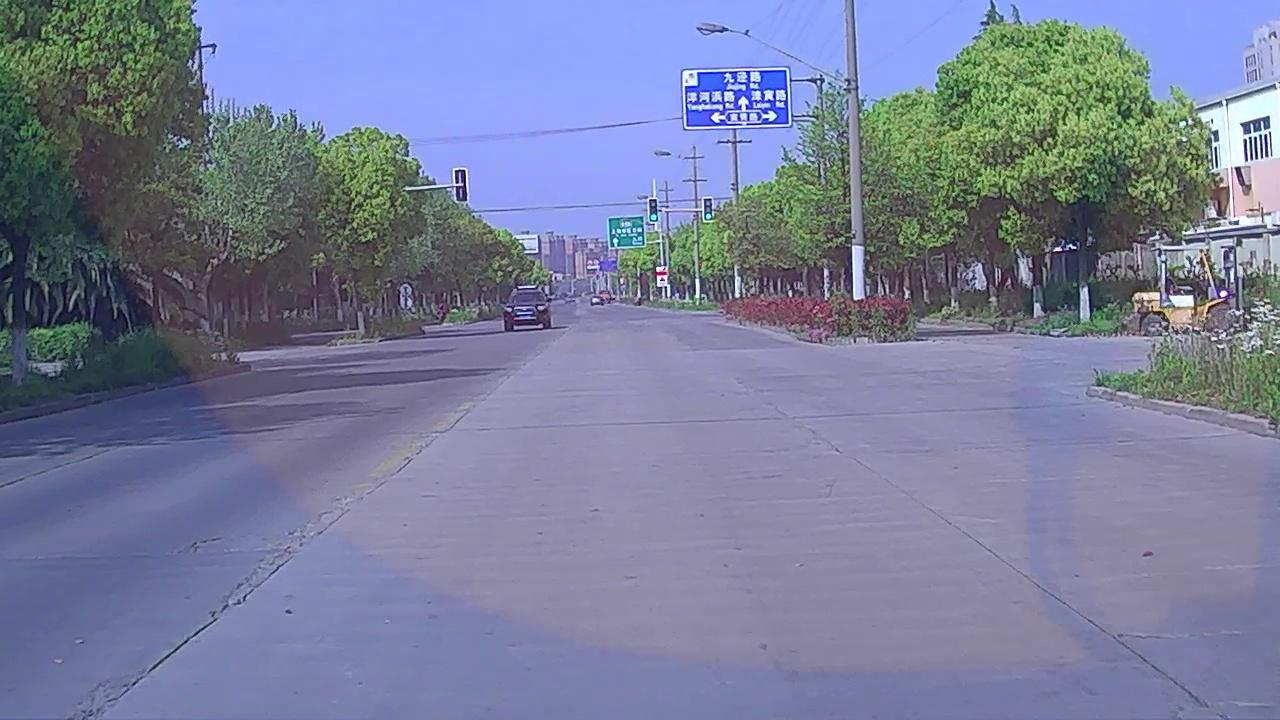traffic_light: (648, 198, 658, 221), (704, 197, 712, 222)
